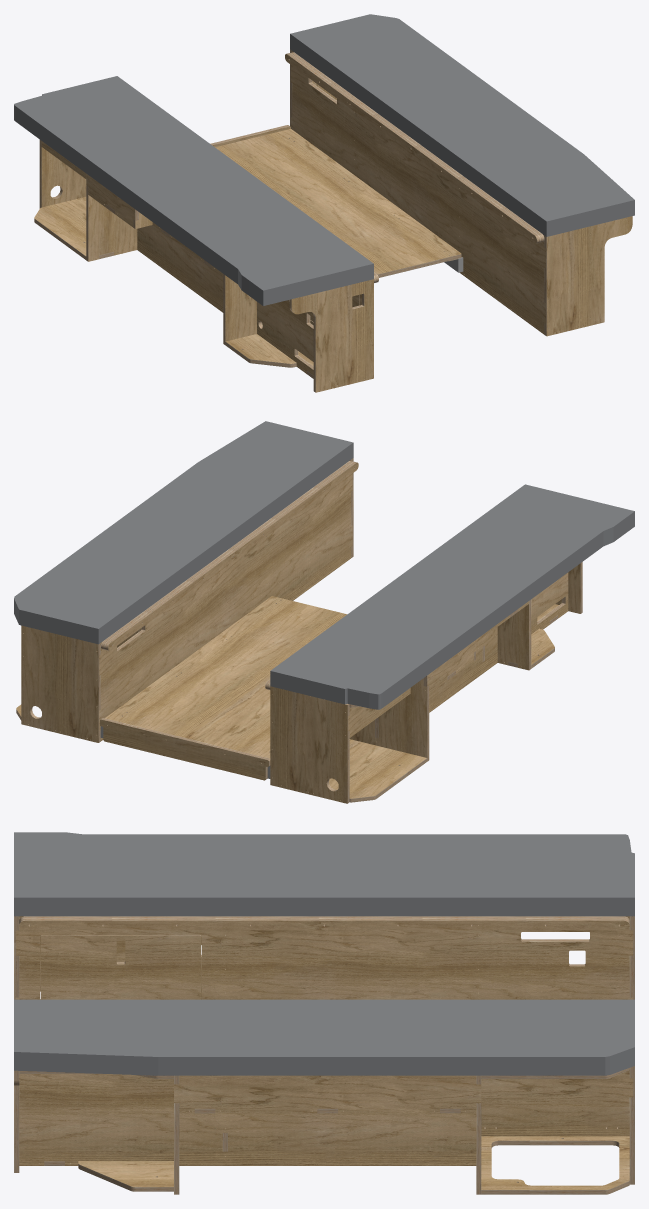
The model's file is two-side-bed-birch.glb.
3 views of the same model, one above another, from view 1: azimuth 30°, elevation 25°; view 2: azimuth 150°, elevation 25°; view 3: azimuth 270°, elevation 25° (orthographic). The views are drawn at different scales.
Parts seen in each view (by area): view 1: Driver side - wall contour - removable_0, Passenger side - outer overhang 10mm - removable_0, P (2)_1, ボディ135_1, ボディ63_0, ボディ65_1, ボディ21 (1)_1, D_1, ボディ226_1, ボディ67_1, D (1)_1, ボディ23 (1)_1 (+4 smaller); view 2: Driver side - wall contour - removable_0, Passenger side - outer overhang 10mm - removable_0, P (2)_1, ボディ135_1, D (1)_1, P_1, ボディ142_0, D_1, ボディ21 (1)_1, ボディ67_1, ボディ226_1, ボディ23 (1)_1 (+6 smaller); view 3: Driver side - wall contour - removable_0, Passenger side - outer overhang 10mm - removable_0, D (2)_1, ボディ27 (1)_1, ボディ9 (1)_1, ボディ223_1, ボディ227_1, P (2)_1, ボディ197_1, ボディ71_1, ボディ14 (1)_1, ボディ227_0 (+8 smaller).
Boxes of the visible parts, x1=… form: Driver side - wall contour - removable_0: x1=14, y1=76, x2=373, y2=305; Passenger side - outer overhang 10mm - removable_0: x1=290, y1=14, x2=634, y2=236; P (2)_1: x1=290, y1=51, x2=545, y2=334; ボディ135_1: x1=215, y1=129, x2=461, y2=274; ボディ63_0: x1=546, y1=216, x2=632, y2=336; ボディ65_1: x1=291, y1=279, x2=373, y2=392; ボディ21 (1)_1: x1=137, y1=225, x2=313, y2=374; D_1: x1=88, y1=195, x2=137, y2=261; ボディ226_1: x1=285, y1=54, x2=536, y2=243; ボディ67_1: x1=34, y1=197, x2=86, y2=255; D (1)_1: x1=41, y1=147, x2=86, y2=207; ボディ23 (1)_1: x1=225, y1=275, x2=256, y2=341; Driver side - wall contour - removable_0: x1=270, y1=484, x2=634, y2=709; Passenger side - outer overhang 10mm - removable_0: x1=14, y1=421, x2=353, y2=644; P (2)_1: x1=99, y1=460, x2=352, y2=741; ボディ135_1: x1=105, y1=596, x2=346, y2=758; D (1)_1: x1=270, y1=686, x2=347, y2=803; P_1: x1=21, y1=625, x2=98, y2=742; ボディ142_0: x1=100, y1=719, x2=268, y2=780; D_1: x1=349, y1=678, x2=427, y2=757; ボディ21 (1)_1: x1=429, y1=572, x2=568, y2=712; ボディ67_1: x1=329, y1=739, x2=426, y2=798; ボディ226_1: x1=108, y1=462, x2=358, y2=650; ボディ23 (1)_1: x1=497, y1=604, x2=528, y2=670; Driver side - wall contour - removable_0: x1=14, y1=832, x2=634, y2=916; Passenger side - outer overhang 10mm - removable_0: x1=14, y1=999, x2=634, y2=1075; D (2)_1: x1=15, y1=916, x2=633, y2=999; ボディ27 (1)_1: x1=19, y1=1074, x2=476, y2=1165; ボディ9 (1)_1: x1=174, y1=1075, x2=481, y2=1113; ボディ223_1: x1=40, y1=935, x2=201, y2=999; ボディ227_1: x1=19, y1=920, x2=629, y2=930; P (2)_1: x1=481, y1=1106, x2=629, y2=1136; ボディ197_1: x1=481, y1=1070, x2=633, y2=1106; ボディ71_1: x1=481, y1=1136, x2=629, y2=1189; ボディ14 (1)_1: x1=78, y1=1161, x2=173, y2=1186; ボディ227_0: x1=19, y1=918, x2=629, y2=926.
Size of the model in its own units: 1.54 by 0.445 by 1.8.
4 materials, 2 textured.
